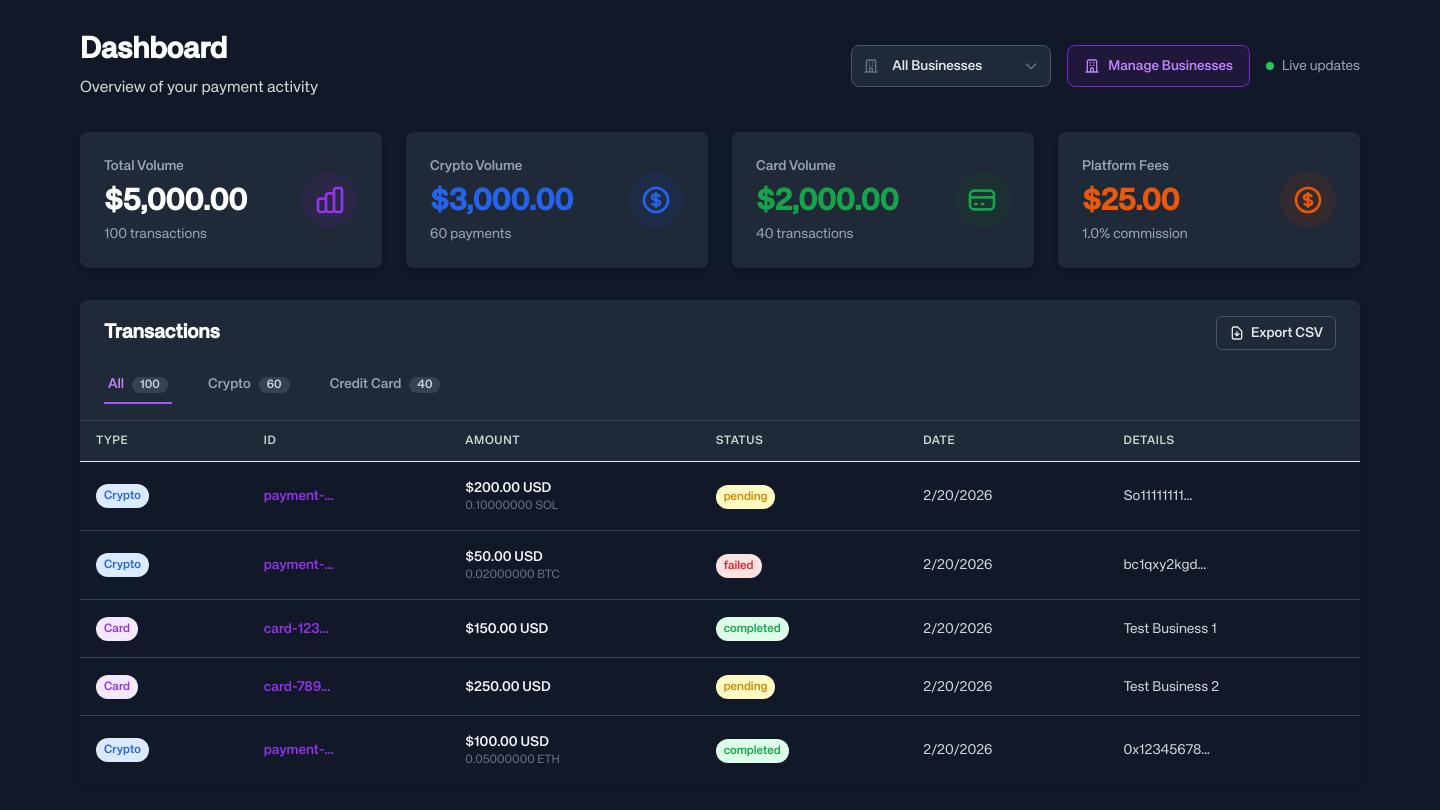
Test: DashboardPage › Tab Navigation › should switch to crypto tab and show crypto transactions only
Click the button "Crypto60".
click(249, 385)  # box [204,366,294,404]
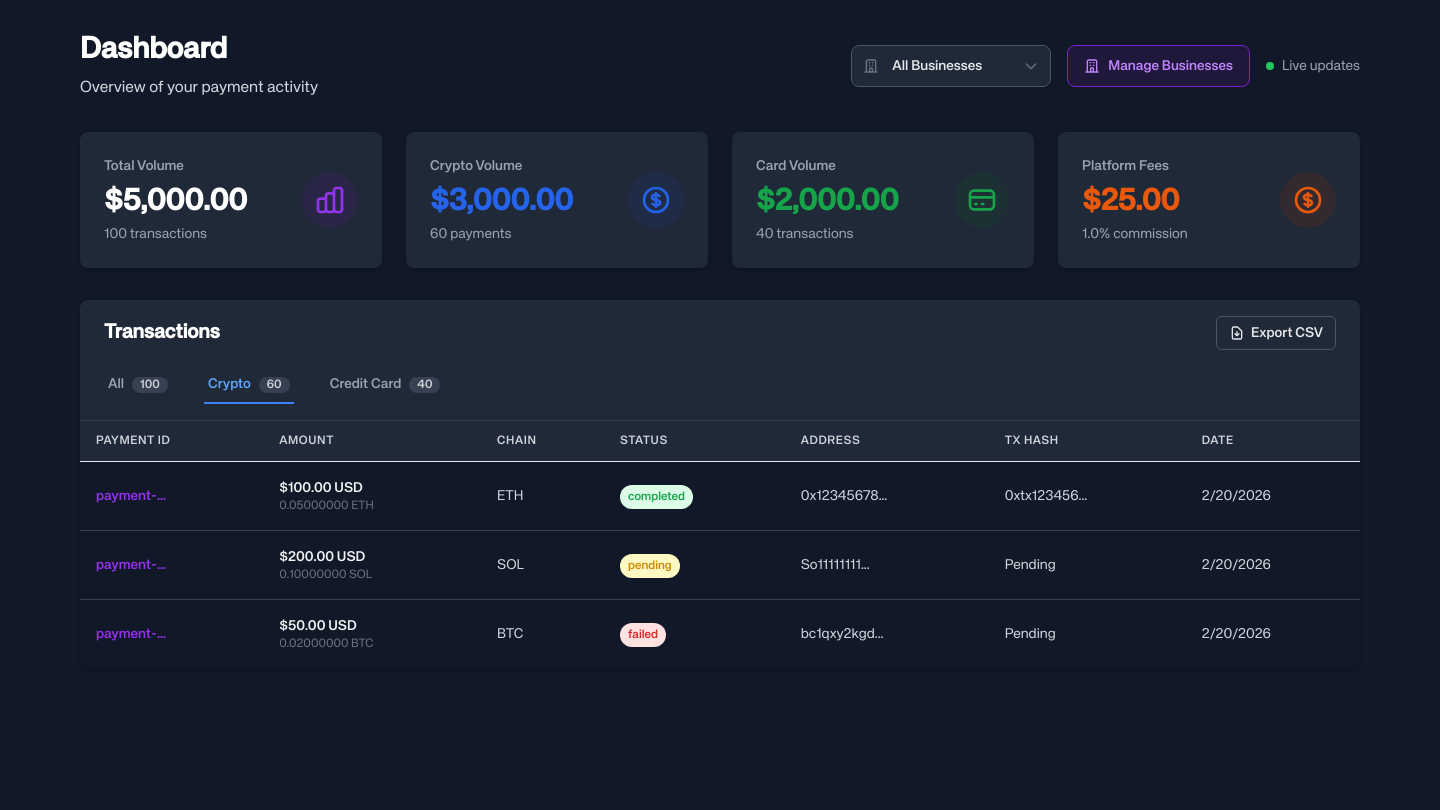
Expected: the column heading "Payment ID" is shown, [80,421,263,462]
Expected: the column heading "Chain" is shown, [481,421,604,462]
Expected: the column heading "Address" is shown, [785,421,989,462]
